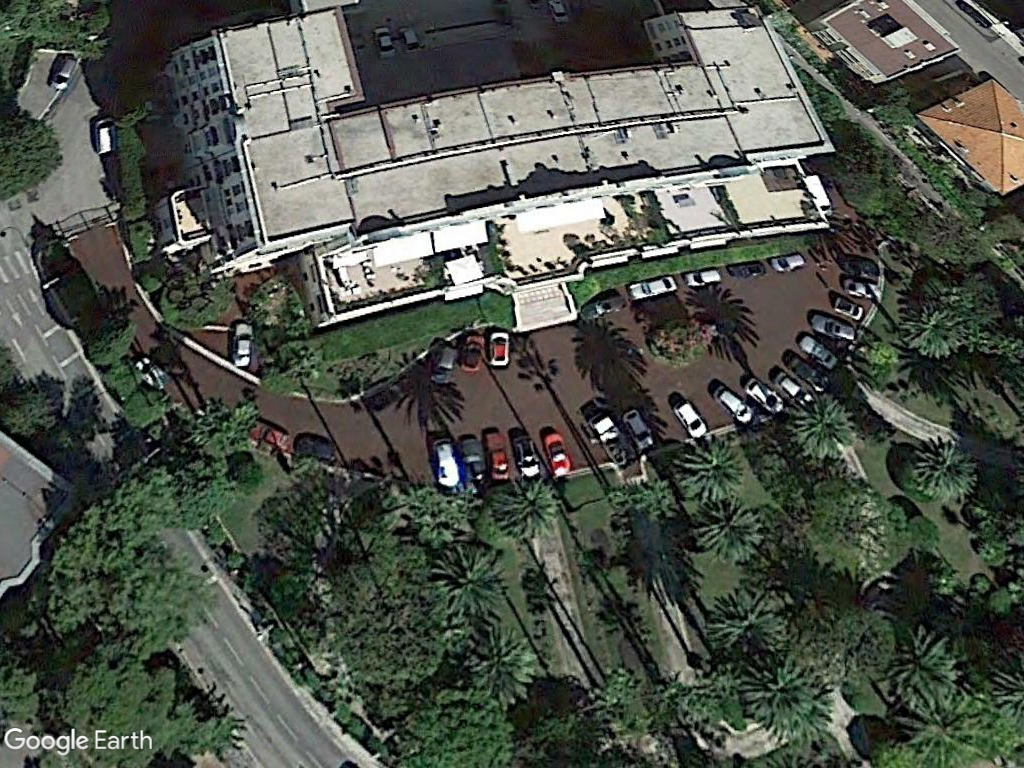car: (622, 270, 676, 302), (484, 428, 514, 484), (542, 428, 572, 480), (229, 314, 254, 371), (490, 326, 510, 370)
